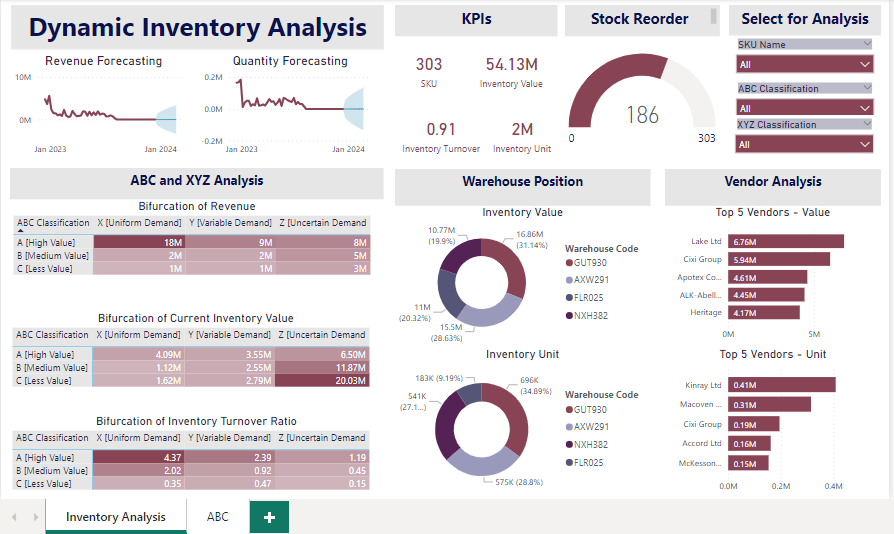

The dashboard page shown, as its layout file describes it:
{"tool":"powerbi","page":{"name":"Inventory Analysis","canvas":[1280,720],"ordinal":0},"visuals":[{"type":"donutChart","title":"Inventory Unit","fields":{"Category":["Warehouse.Warehouse Code"],"Y":["Key Calculations.Inventory Unit"]},"box":[568,501.3,367.8,218.7],"z":0},{"type":"donutChart","title":"Inventory Value","fields":{"Y":["Key Calculations.Inventory Value"],"Category":["Warehouse.Warehouse Code"]},"box":[568,296.8,367.8,204.5],"z":1000},{"type":"clusteredBarChart","title":"Top 5 Vendors - Unit","fields":{"Y":["Key Calculations.Top 5 Vendors - Units"],"Category":["Inventory Control.Vendor Name"]},"box":[955.7,501.3,311,218.7],"z":2000},{"type":"clusteredBarChart","title":"Top 5 Vendors - Value","fields":{"Category":["Inventory Control.Vendor Name"],"Y":["Key Calculations.Top 5 Vendors - Value"]},"box":[955.7,296.8,311,204.5],"z":3000},{"type":"pivotTable","title":"Bifurcation of Revenue","fields":{"Rows":["Inventory Control.ABC Classification"],"Values":["Sum(Inventory Control.Annual Revenue)"],"Columns":["Inventory Control.XYZ Classification"]},"box":[12.9,288.3,538.1,161.3],"z":4000},{"type":"pivotTable","title":"Bifurcation of Current Inventory Value","fields":{"Rows":["Inventory Control.ABC Classification"],"Columns":["Inventory Control.XYZ Classification"],"Values":["Sum(Inventory Control.Total Value)"]},"box":[12,449.7,538.1,148.5],"z":5000},{"type":"pivotTable","title":"Bifurcation of Inventory Turnover Ratio","fields":{"Rows":["Inventory Control.ABC Classification"],"Columns":["Inventory Control.XYZ Classification"],"Values":["Key Calculations.Inventory Turnover Ratio"]},"box":[12,598.1,539.8,121.9],"z":6000},{"type":"textbox","box":[12.9,243.7,538.1,44.6],"z":7000},{"type":"textbox","box":[568,244.3,367.8,52.5],"z":8000},{"type":"textbox","box":[955.7,244.3,311,52.5],"z":9000},{"type":"slicer","fields":{"Values":["Inventory Control.ABC Classification"]},"box":[1048,115,218.7,52.5],"z":10000},{"type":"slicer","fields":{"Values":["Inventory Control.XYZ Classification"]},"box":[1046.6,167.6,220.1,66.7],"z":11000},{"type":"slicer","fields":{"Values":["SKU_Item.SKU Name"]},"box":[1048,52.5,218.7,62.5],"z":12000},{"type":"textbox","box":[1048,8.5,218.7,44],"z":13000},{"type":"textbox","box":[14.2,8.5,536.8,63.9],"z":14000},{"type":"card","fields":{"Values":["Key Calculations.SKU"]},"box":[568,61.1,98,80.9],"z":15000},{"type":"card","fields":{"Values":["Key Calculations.Inventory Turnover Ratio"]},"box":[568.1,153.6,130.4,80.7],"z":16000},{"type":"card","fields":{"Values":["Key Calculations.Inventory Unit"]},"box":[698.5,153.6,103.8,80.7],"z":17000},{"type":"card","fields":{"Values":["Key Calculations.Inventory Value"]},"box":[666,61.1,136.3,80.9],"z":18000},{"type":"textbox","box":[568,8.5,234.3,45.4],"z":19000},{"type":"lineChart","title":"Revenue Forecasting","fields":{"Category":["Weekly Demand.Week Days"],"Y":["Sum(Weekly Demand.Sales Amount)"]},"box":[14.6,78.1,266.9,156.2],"z":20000},{"type":"lineChart","title":"Quantity Forecasting","fields":{"Category":["Weekly Demand.Week Days"],"Y":["Sum(Weekly Demand.Weeks Demand)"]},"box":[282.3,78.1,268.6,156.2],"z":21000},{"type":"textbox","box":[812.3,8.5,223,45.4],"z":22000},{"type":"gauge","fields":{"MaxValue":["CountNonNull(Inventory Control.SKU ID)"],"Y":["Key Calculations.SKUs to Reorder"]},"box":[812.7,60.9,222.3,173.3],"z":23000}]}

Visuals, with their boxes on the page's 1280x720 design canvas (x1, y1, x2, y2). These are canvas units, not pixel positions in the 894x534 screenshot, which may show the page scaled, cropped or inside an application window:
"Inventory Unit" donutChart: Rect(568, 501, 936, 720)
"Inventory Value" donutChart: Rect(568, 297, 936, 501)
"Top 5 Vendors - Unit" clusteredBarChart: Rect(956, 501, 1267, 720)
"Top 5 Vendors - Value" clusteredBarChart: Rect(956, 297, 1267, 501)
"Bifurcation of Revenue" pivotTable: Rect(13, 288, 551, 450)
"Bifurcation of Current Inventory Value" pivotTable: Rect(12, 450, 550, 598)
"Bifurcation of Inventory Turnover Ratio" pivotTable: Rect(12, 598, 552, 720)
textbox: Rect(13, 244, 551, 288)
textbox: Rect(568, 244, 936, 297)
textbox: Rect(956, 244, 1267, 297)
slicer - Inventory Control.ABC Classification: Rect(1048, 115, 1267, 168)
slicer - Inventory Control.XYZ Classification: Rect(1047, 168, 1267, 234)
slicer - SKU_Item.SKU Name: Rect(1048, 52, 1267, 115)
textbox: Rect(1048, 8, 1267, 52)
textbox: Rect(14, 8, 551, 72)
card - Key Calculations.SKU: Rect(568, 61, 666, 142)
card - Key Calculations.Inventory Turnover Ratio: Rect(568, 154, 698, 234)
card - Key Calculations.Inventory Unit: Rect(698, 154, 802, 234)
card - Key Calculations.Inventory Value: Rect(666, 61, 802, 142)
textbox: Rect(568, 8, 802, 54)
"Revenue Forecasting" lineChart: Rect(15, 78, 282, 234)
"Quantity Forecasting" lineChart: Rect(282, 78, 551, 234)
textbox: Rect(812, 8, 1035, 54)
gauge - CountNonNull(Inventory Control.SKU ID) x Key Calculations.SKUs to Reorder: Rect(813, 61, 1035, 234)
